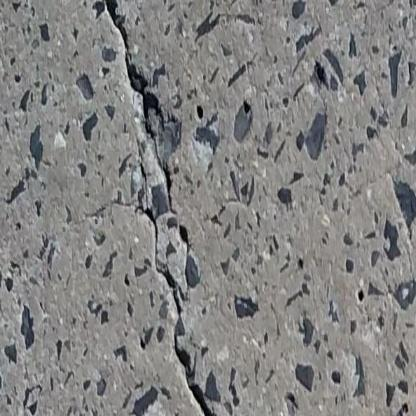Cracks: (88, 0, 181, 220), (144, 209, 187, 322), (170, 331, 226, 416)
